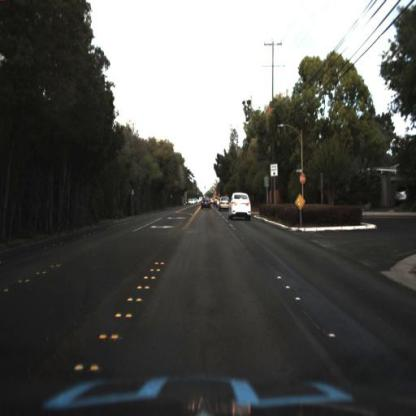car: (228, 191, 255, 224), (218, 194, 233, 213), (201, 194, 214, 212)
